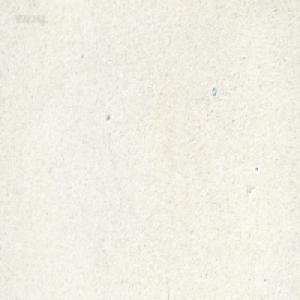Washer: (211, 85, 216, 96)
